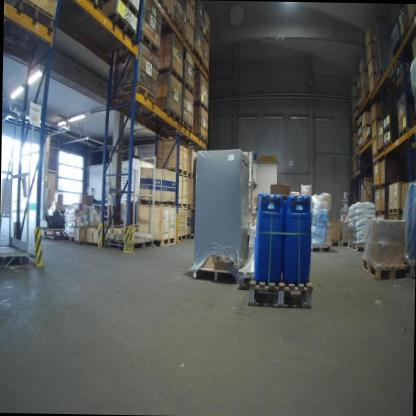pallet: (247, 280, 313, 310), (3, 0, 57, 32), (109, 80, 156, 104), (361, 257, 408, 280), (106, 11, 136, 44), (189, 266, 237, 283), (105, 237, 153, 250), (140, 30, 160, 57), (237, 259, 254, 290), (156, 66, 182, 83), (117, 0, 139, 19), (143, 236, 176, 247), (162, 106, 182, 124), (159, 0, 174, 21), (40, 226, 64, 239), (138, 198, 175, 206), (192, 99, 209, 113), (347, 239, 364, 252), (174, 18, 185, 38), (310, 245, 332, 254), (166, 168, 187, 177), (194, 16, 204, 34), (398, 125, 410, 139), (181, 119, 193, 133), (185, 81, 196, 96), (193, 134, 208, 145), (184, 34, 193, 52), (407, 260, 415, 280), (193, 49, 203, 64), (383, 138, 395, 150), (184, 16, 194, 30), (374, 72, 381, 89), (382, 122, 391, 135), (201, 61, 209, 75), (376, 145, 386, 156), (366, 54, 375, 66), (186, 0, 195, 12), (374, 209, 388, 216), (365, 39, 373, 51), (371, 116, 383, 124), (368, 70, 376, 82), (203, 33, 210, 46), (388, 207, 401, 214), (359, 67, 368, 77), (331, 240, 340, 248), (380, 180, 388, 189), (361, 123, 371, 130), (187, 172, 196, 179), (369, 86, 375, 96), (64, 235, 74, 241), (357, 101, 362, 113), (187, 203, 195, 210), (178, 234, 186, 241), (373, 183, 381, 190), (178, 203, 187, 209), (365, 132, 371, 141), (371, 133, 376, 142), (340, 240, 347, 246), (358, 142, 363, 150), (361, 96, 365, 105), (187, 233, 194, 238), (372, 151, 377, 158), (361, 139, 366, 146), (357, 132, 362, 139), (360, 83, 364, 90), (355, 165, 359, 172)
pallet_truck: (88, 188, 97, 203)
